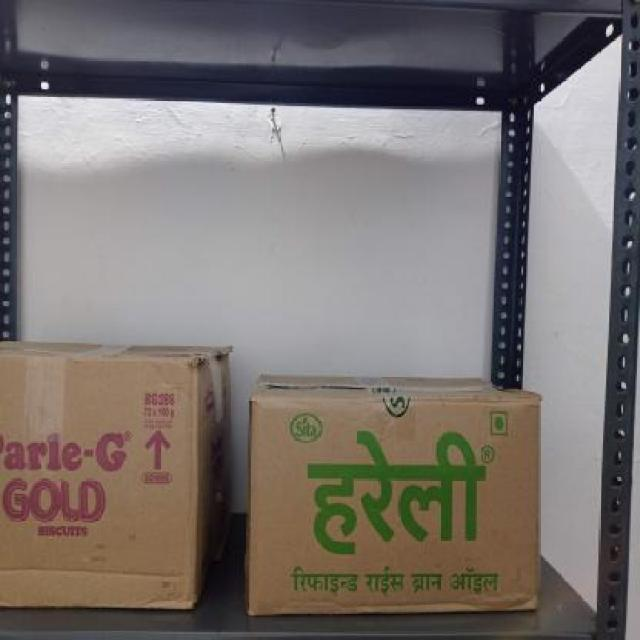box: (249, 392, 543, 612), (0, 357, 198, 604)
